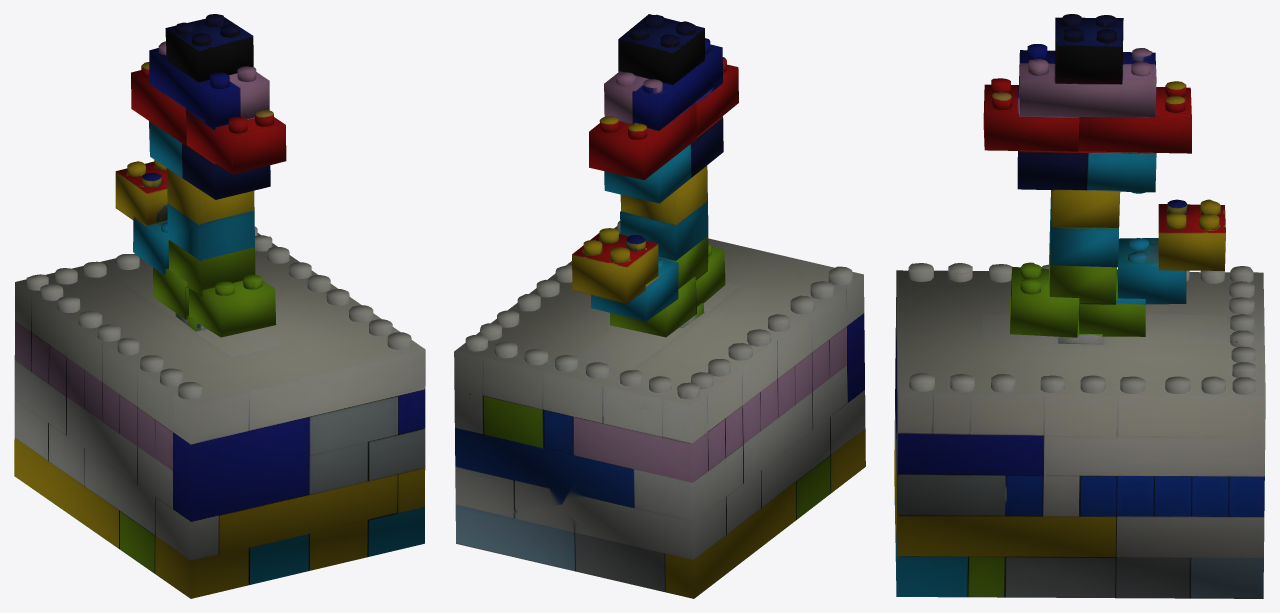
The model's file is object_53_asset_4963c1e2.glb.
3 renders of one model, left to right at view 1: azimuth 30°, elevation 25°; view 2: azimuth 150°, elevation 25°; view 3: azimuth 270°, elevation 25°, orthographic. The views are drawn at different scales.
Visible parts, largest first — view 1: tripo_node_16b4a5cc-5afd-425f-90f4-5cd656ffba52; view 2: tripo_node_16b4a5cc-5afd-425f-90f4-5cd656ffba52; view 3: tripo_node_16b4a5cc-5afd-425f-90f4-5cd656ffba52.
Part boxes in pixels (bbox=[...]): tripo_node_16b4a5cc-5afd-425f-90f4-5cd656ffba52: bbox=[14, 14, 425, 598]; tripo_node_16b4a5cc-5afd-425f-90f4-5cd656ffba52: bbox=[454, 14, 865, 598]; tripo_node_16b4a5cc-5afd-425f-90f4-5cd656ffba52: bbox=[894, 14, 1265, 598].
Size of the model in its own units: 0.5176 by 0.998 by 0.6582.
1 material, 1 textured.
